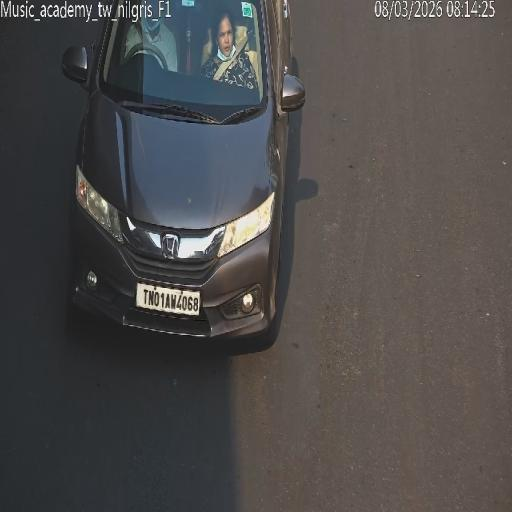person_with_seatbelt: (214, 29, 252, 83), (132, 17, 158, 63)
